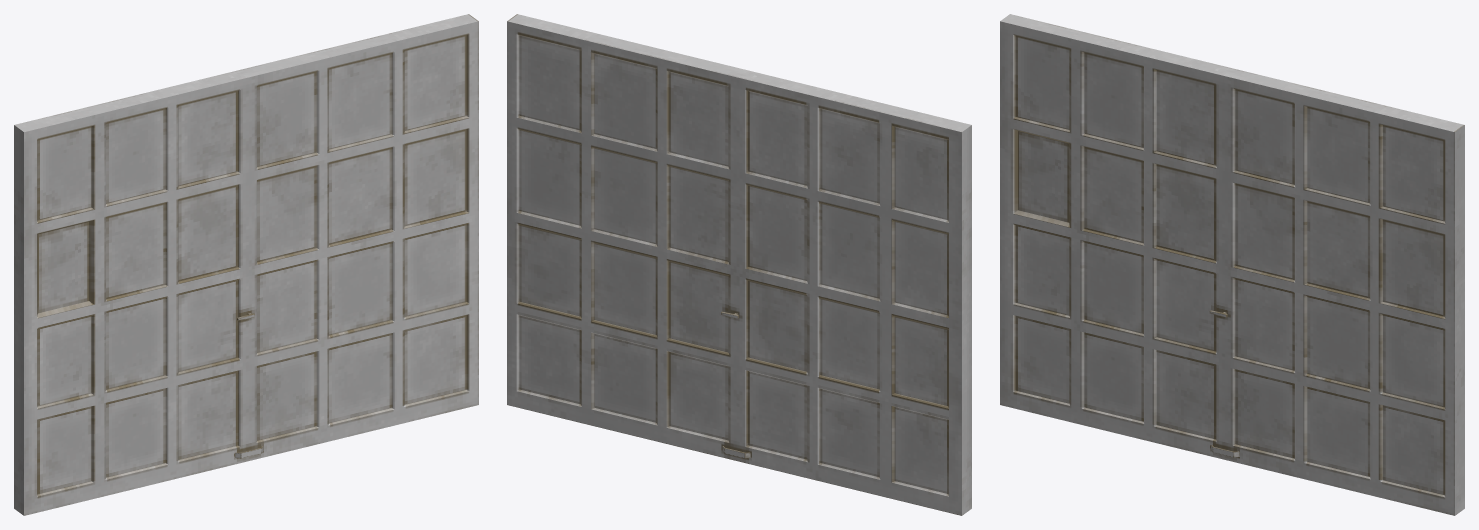
The model's file is GarageDoor.glb.
3 views of the same model, side by side, from view 1: azimuth 30°, elevation 25°; view 2: azimuth 150°, elevation 25°; view 3: azimuth 330°, elevation 25° (orthographic).
Visible parts, largest first — view 1: pCube6; view 2: pCube6; view 3: pCube6.
Boxes of the visible parts, x1=… form: pCube6: x1=14, y1=14, x2=478, y2=515; pCube6: x1=507, y1=14, x2=971, y2=515; pCube6: x1=1000, y1=14, x2=1464, y2=515.
Bounding box in the file's own units: 8.37 × 6.75 × 0.4713.
1 material, 1 textured.
